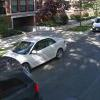Car: (2, 30, 70, 72)
